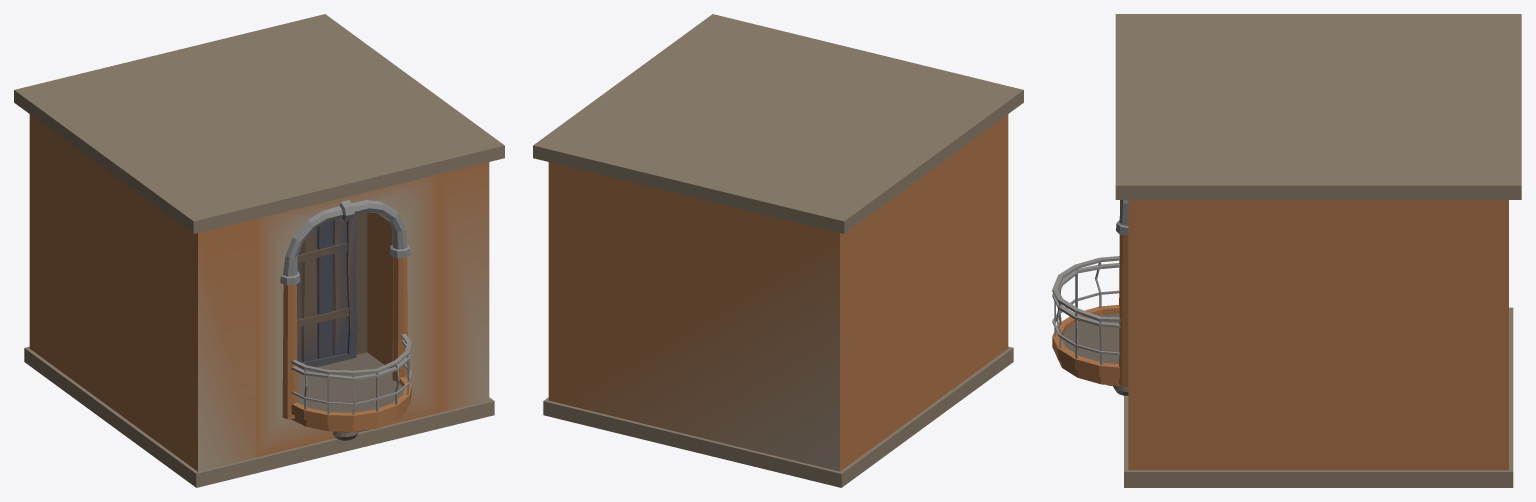
The model's file is SM_Bld_Cuba_Room_02.glb.
3 renders of one model, left to right at view 1: azimuth 30°, elevation 25°; view 2: azimuth 150°, elevation 25°; view 3: azimuth 270°, elevation 25°, orthographic. The views are drawn at different scales.
Visible parts, largest first — view 1: SM_Bld_Cuba_Room_02; view 2: SM_Bld_Cuba_Room_02; view 3: SM_Bld_Cuba_Room_02.
Boxes of the visible parts, x1=… form: SM_Bld_Cuba_Room_02: x1=14, y1=14, x2=504, y2=487; SM_Bld_Cuba_Room_02: x1=533, y1=14, x2=1023, y2=487; SM_Bld_Cuba_Room_02: x1=1052, y1=14, x2=1521, y2=487.
Size of the model in its own units: 0.04 by 0.0333 by 0.0463.
